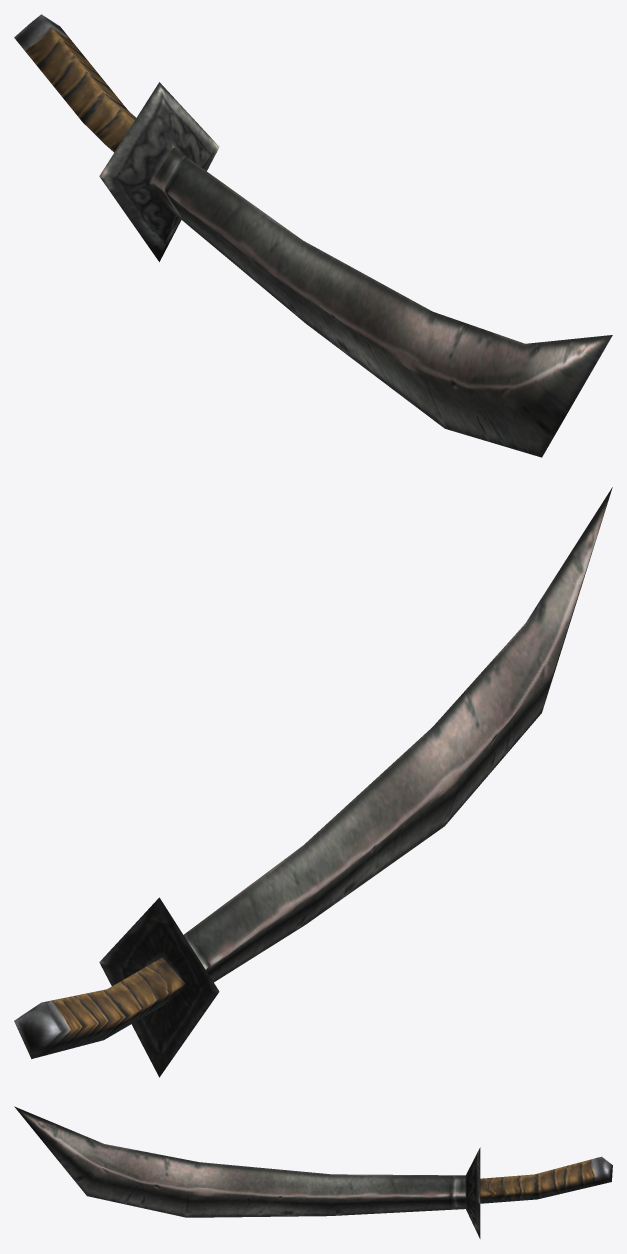
The model's file is PlayerSword.fbx.
3 views of the same model, one above another, from view 1: azimuth 30°, elevation 25°; view 2: azimuth 150°, elevation 25°; view 3: azimuth 270°, elevation 25° (orthographic). The views are drawn at different scales.
Parts seen in each view (by area): view 1: Object01; view 2: Object01; view 3: Object01.
Part boxes in pixels (x1,y1,x2,y2): Object01: (14, 14, 612, 457); Object01: (14, 487, 612, 1077); Object01: (14, 1106, 612, 1238).
Size of the model in its own units: 10.15 by 85.14 by 20.92.
1 material, 1 textured.
